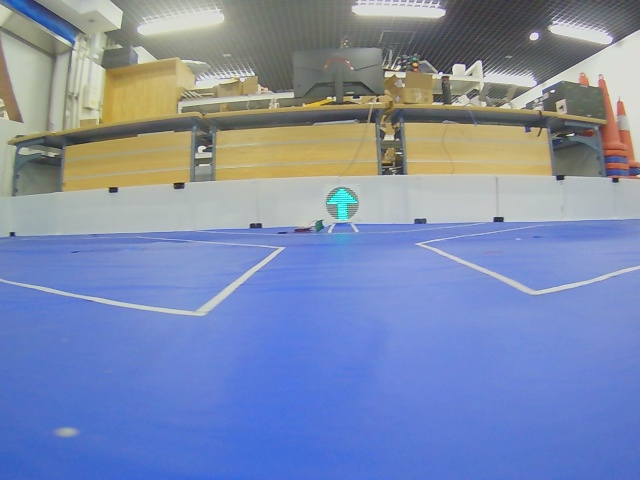straight_green: (326, 187, 359, 221)
